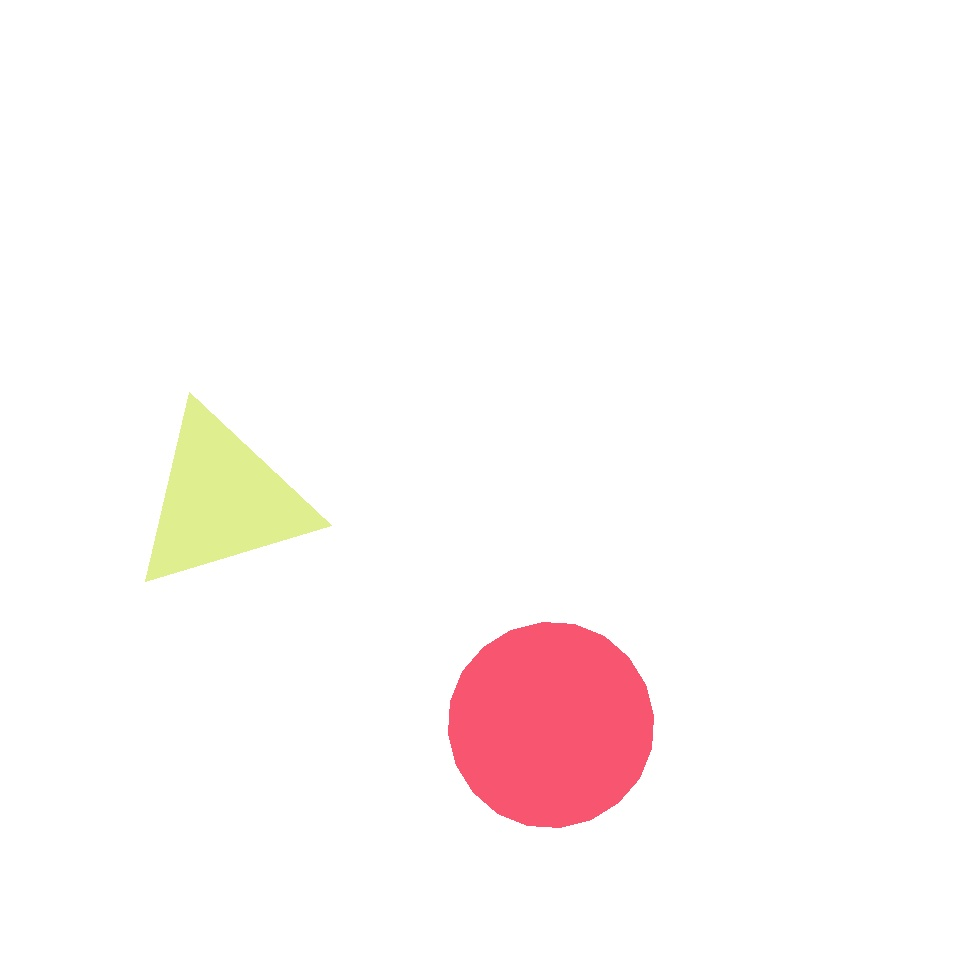circle: (201, 719, 399, 912), (129, 406, 315, 594), (643, 180, 793, 334)
square: (143, 556, 466, 878)
triangle: (560, 220, 862, 522), (449, 622, 654, 828), (326, 228, 426, 328)
